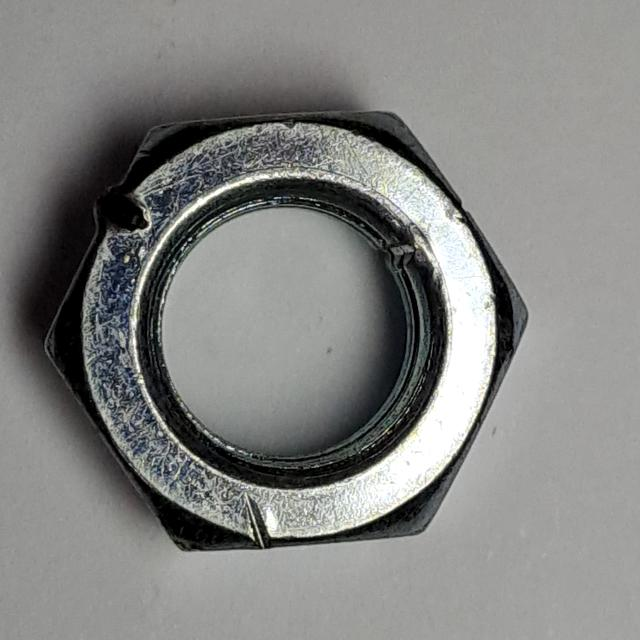Scratches: (38, 100, 545, 573)
